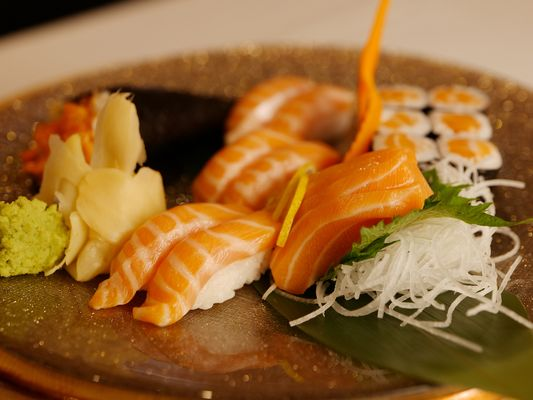curry: (0, 196, 70, 279)
soup: (269, 141, 434, 299)
